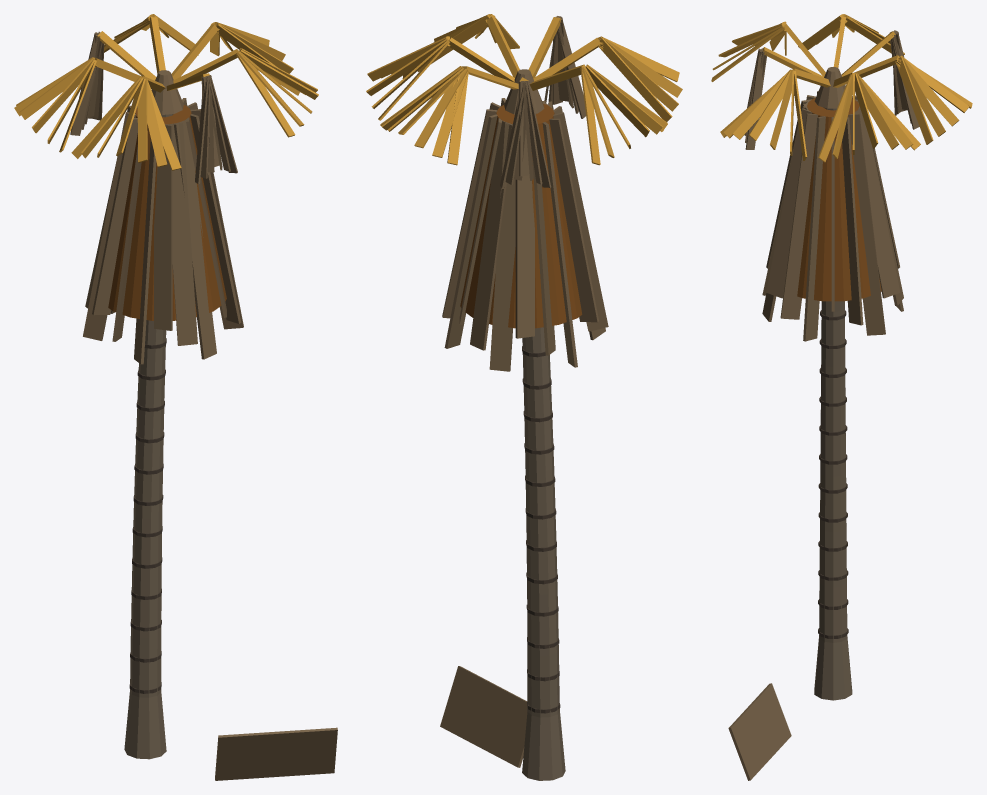
File: golf_dead_palm.glb
The picture shows the model from 3 angles, left to right: view 1: azimuth 30°, elevation 25°; view 2: azimuth 150°, elevation 25°; view 3: azimuth 270°, elevation 25°; orthographic projection. The views are drawn at different scales.
Parts seen in each view (by area): view 1: golf_dead_palm; view 2: golf_dead_palm; view 3: golf_dead_palm.
Boxes of the visible parts, box(x1,y1,x2,y2) form: golf_dead_palm: box(14, 14, 337, 780); golf_dead_palm: box(366, 14, 682, 780); golf_dead_palm: box(711, 14, 972, 780).
Bounding box in the file's own units: 4.91 × 12.8 × 4.46.
